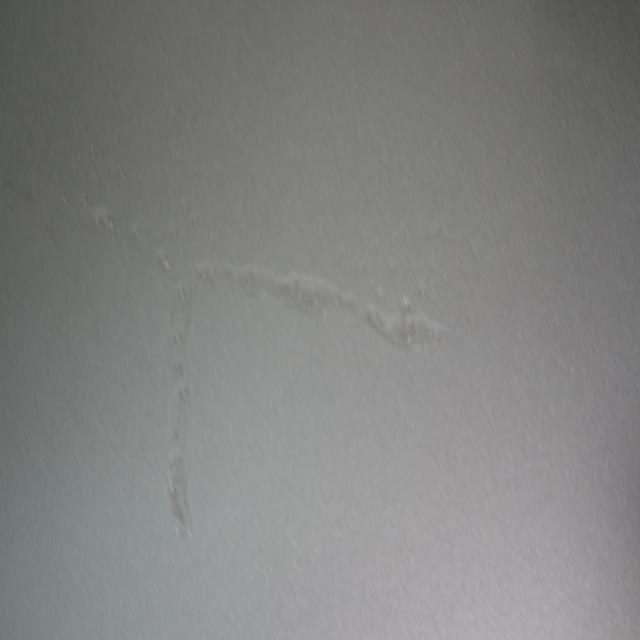runs: (53, 144, 455, 538)
